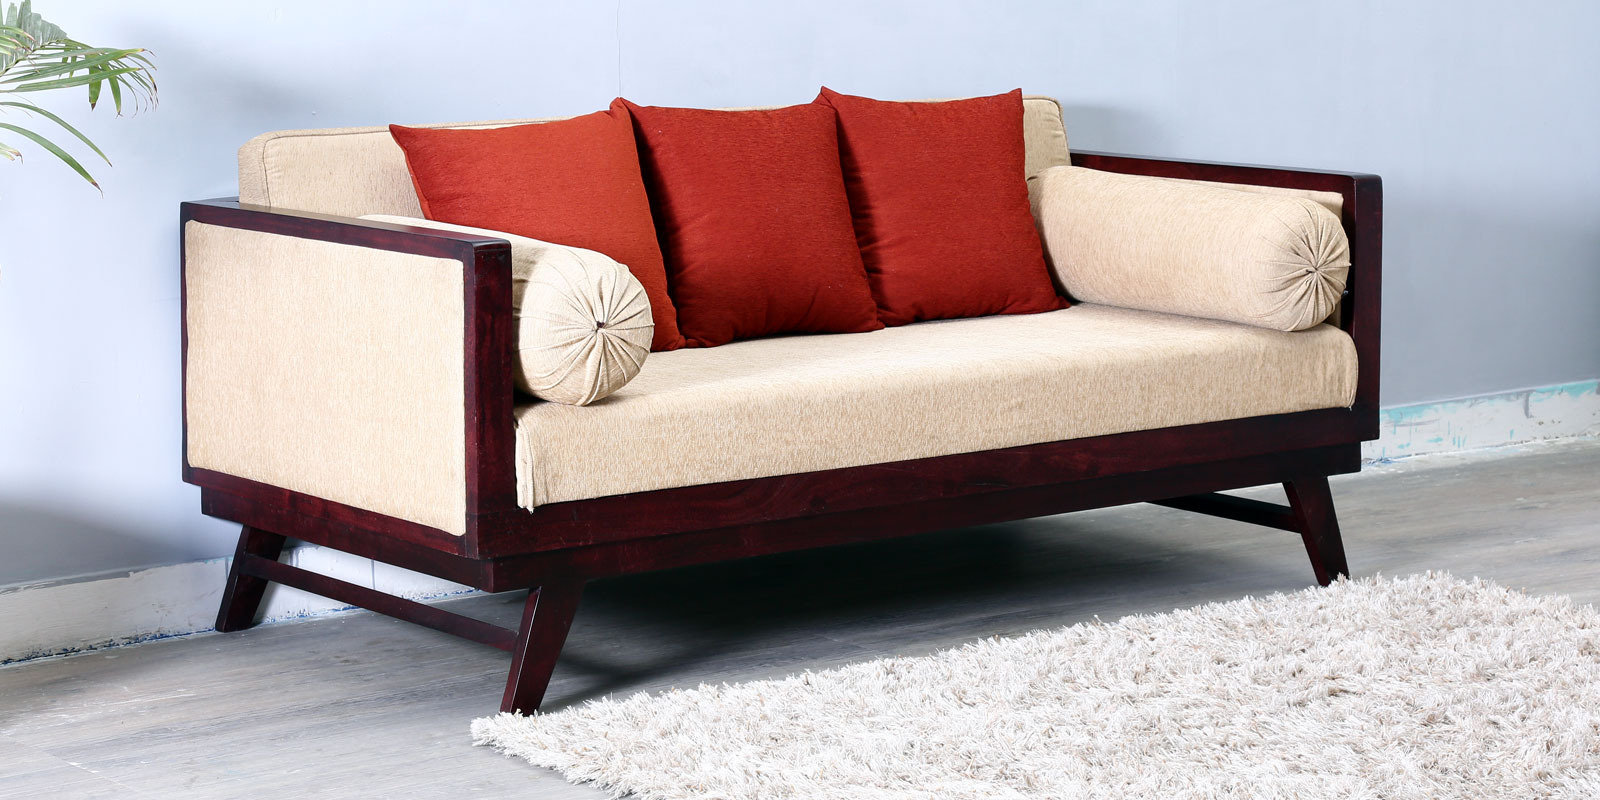Barnes Three Seater Sofa with Cushions in Passion Mahogany Finish by Woodsworth: (143, 93, 1418, 651)
